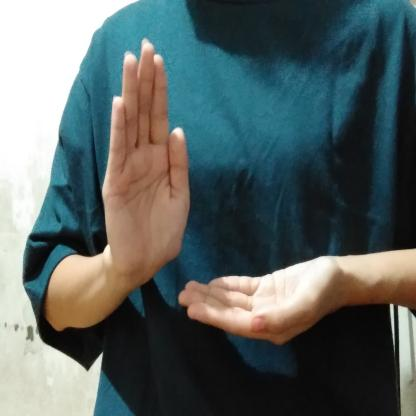hello: (96, 36, 406, 347)
